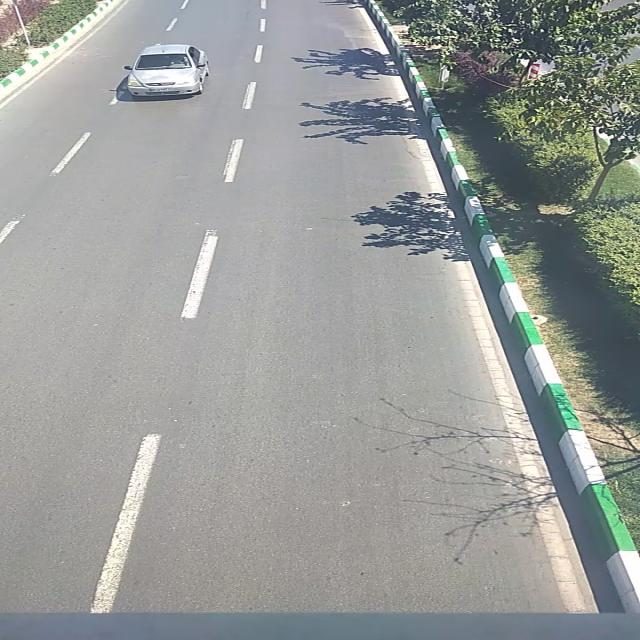car: (124, 45, 212, 99)
